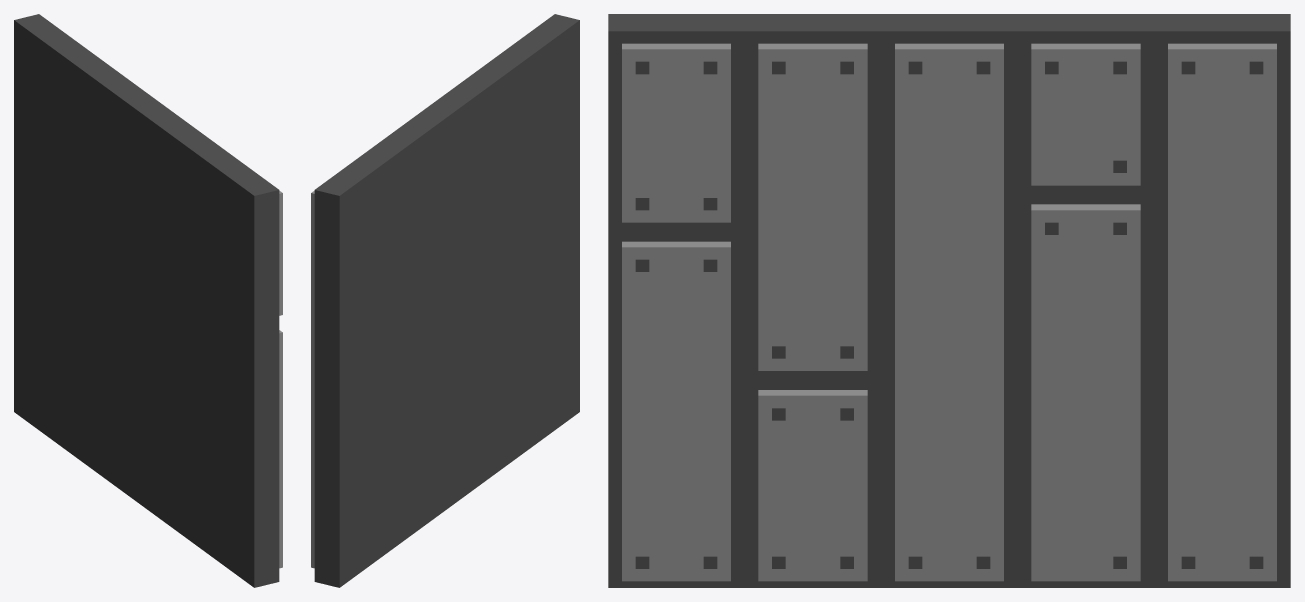
The model's file is wall-0.obj.
The picture shows the model from 3 angles, left to right: view 1: azimuth 30°, elevation 25°; view 2: azimuth 150°, elevation 25°; view 3: azimuth 270°, elevation 25°; orthographic projection. The views are drawn at different scales.
Size of the model in its own units: 0.4 by 4.5 by 5.
Materials: 1 (1 with a texture image).
